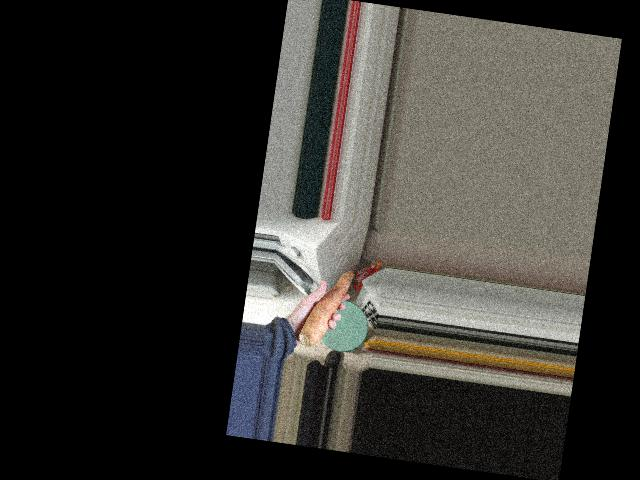sweet_potato: (294, 258, 359, 353)
